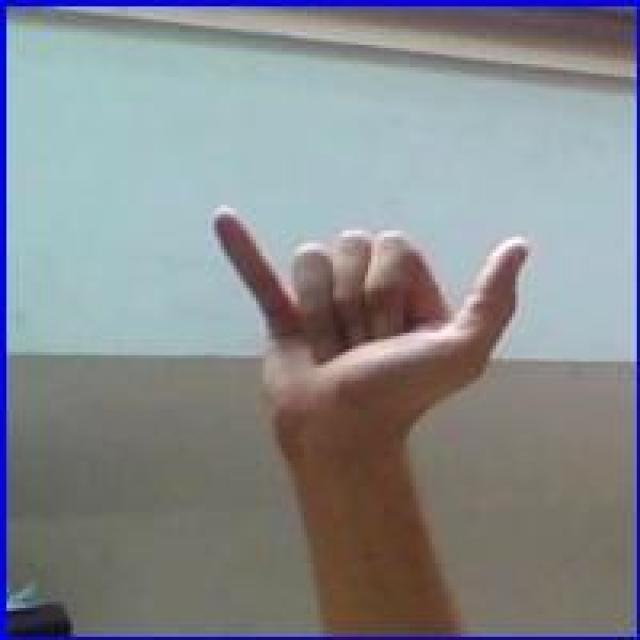Y: (206, 198, 540, 452)
